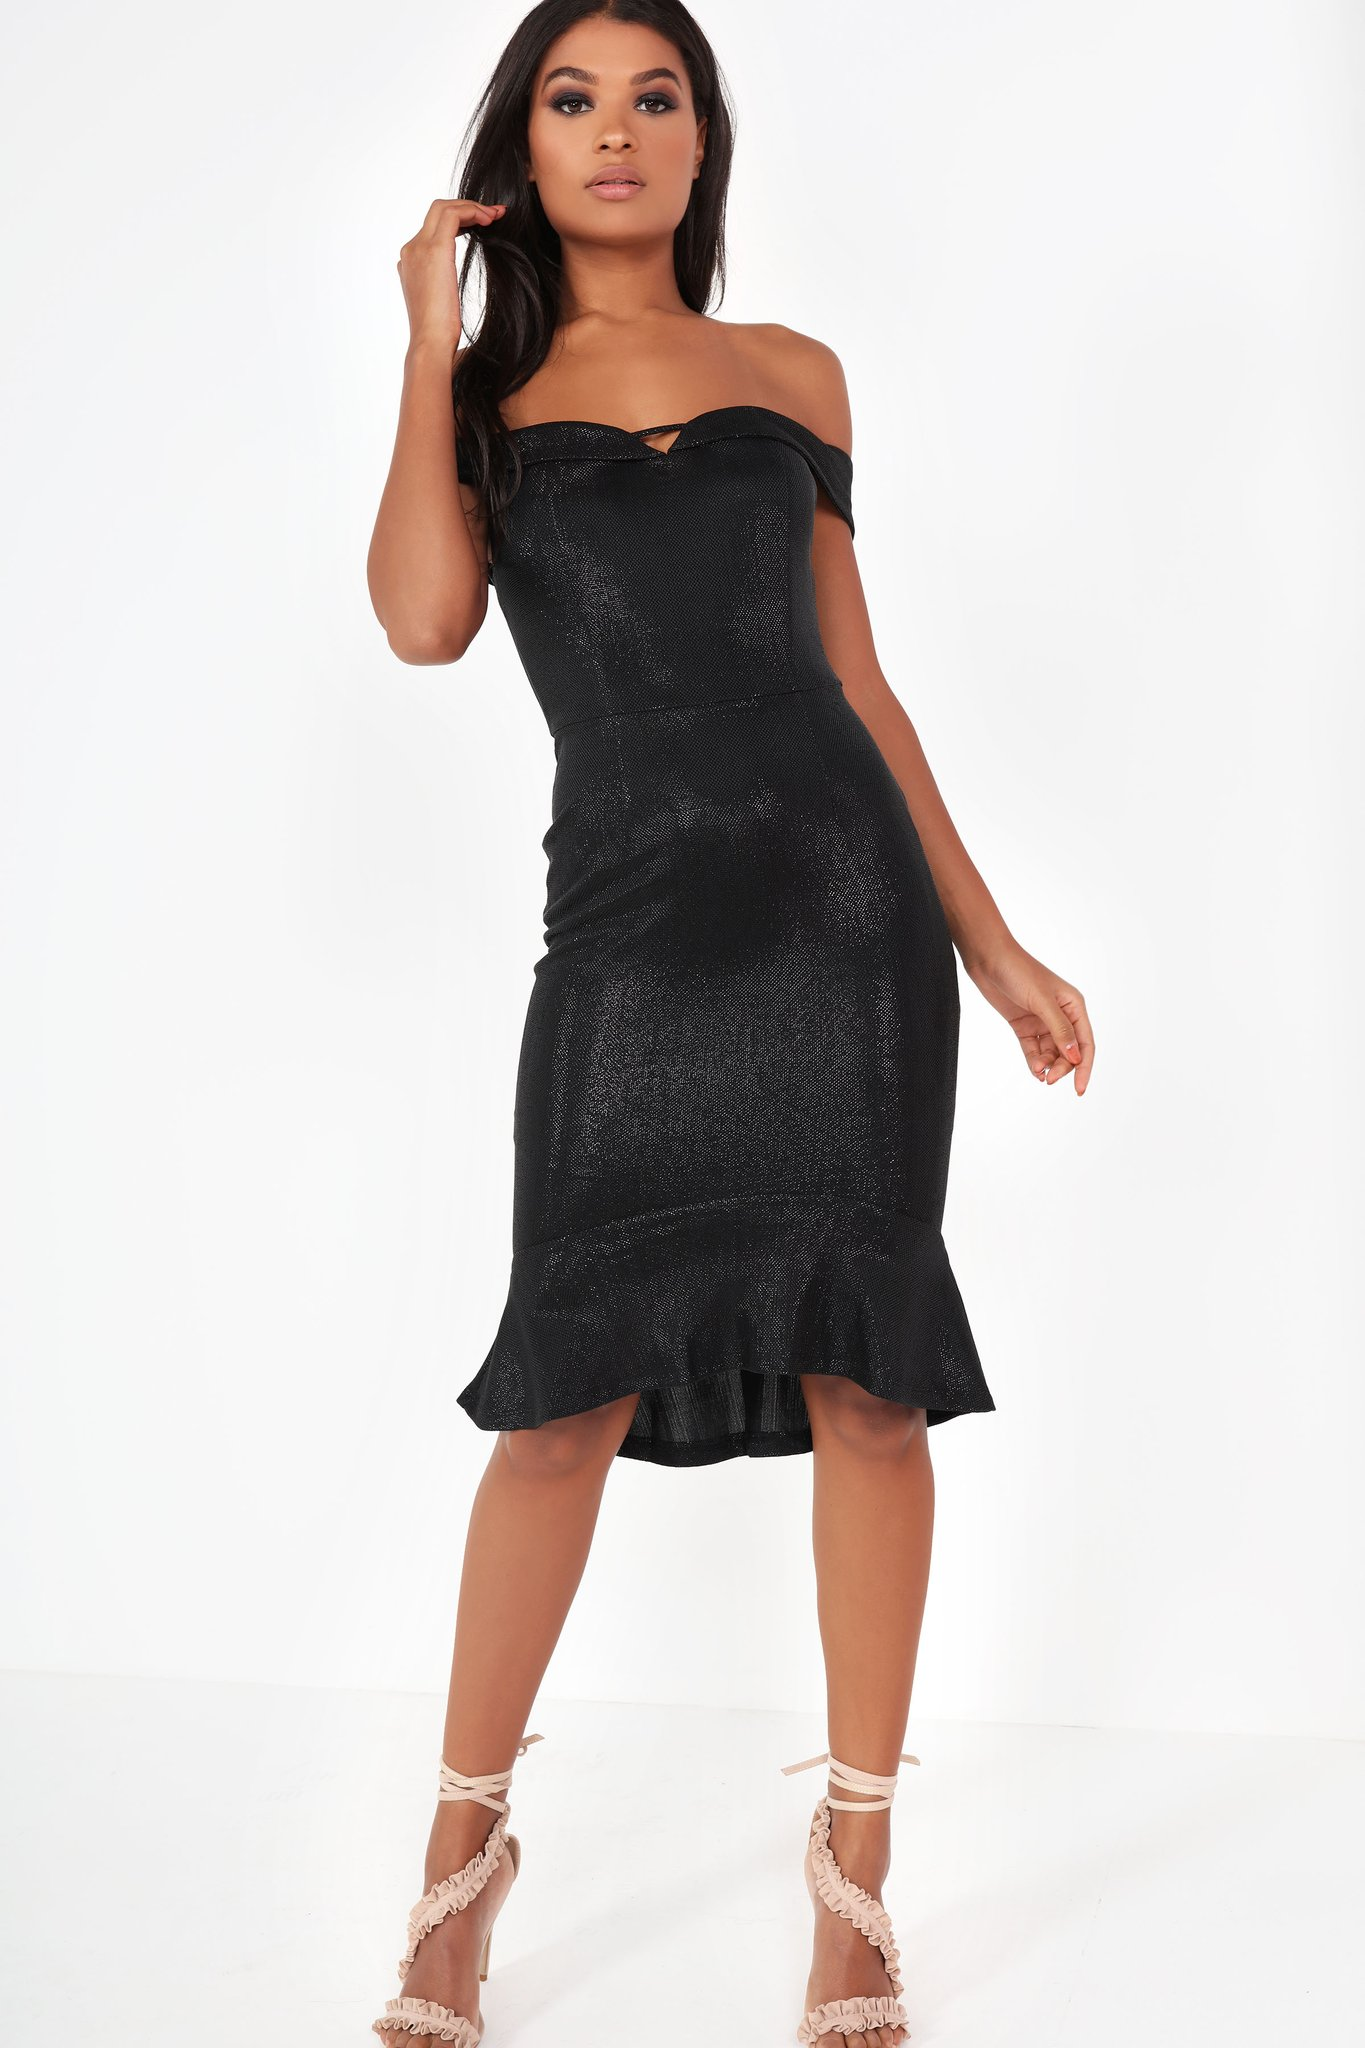S_dress: (385, 353, 1031, 1396)
